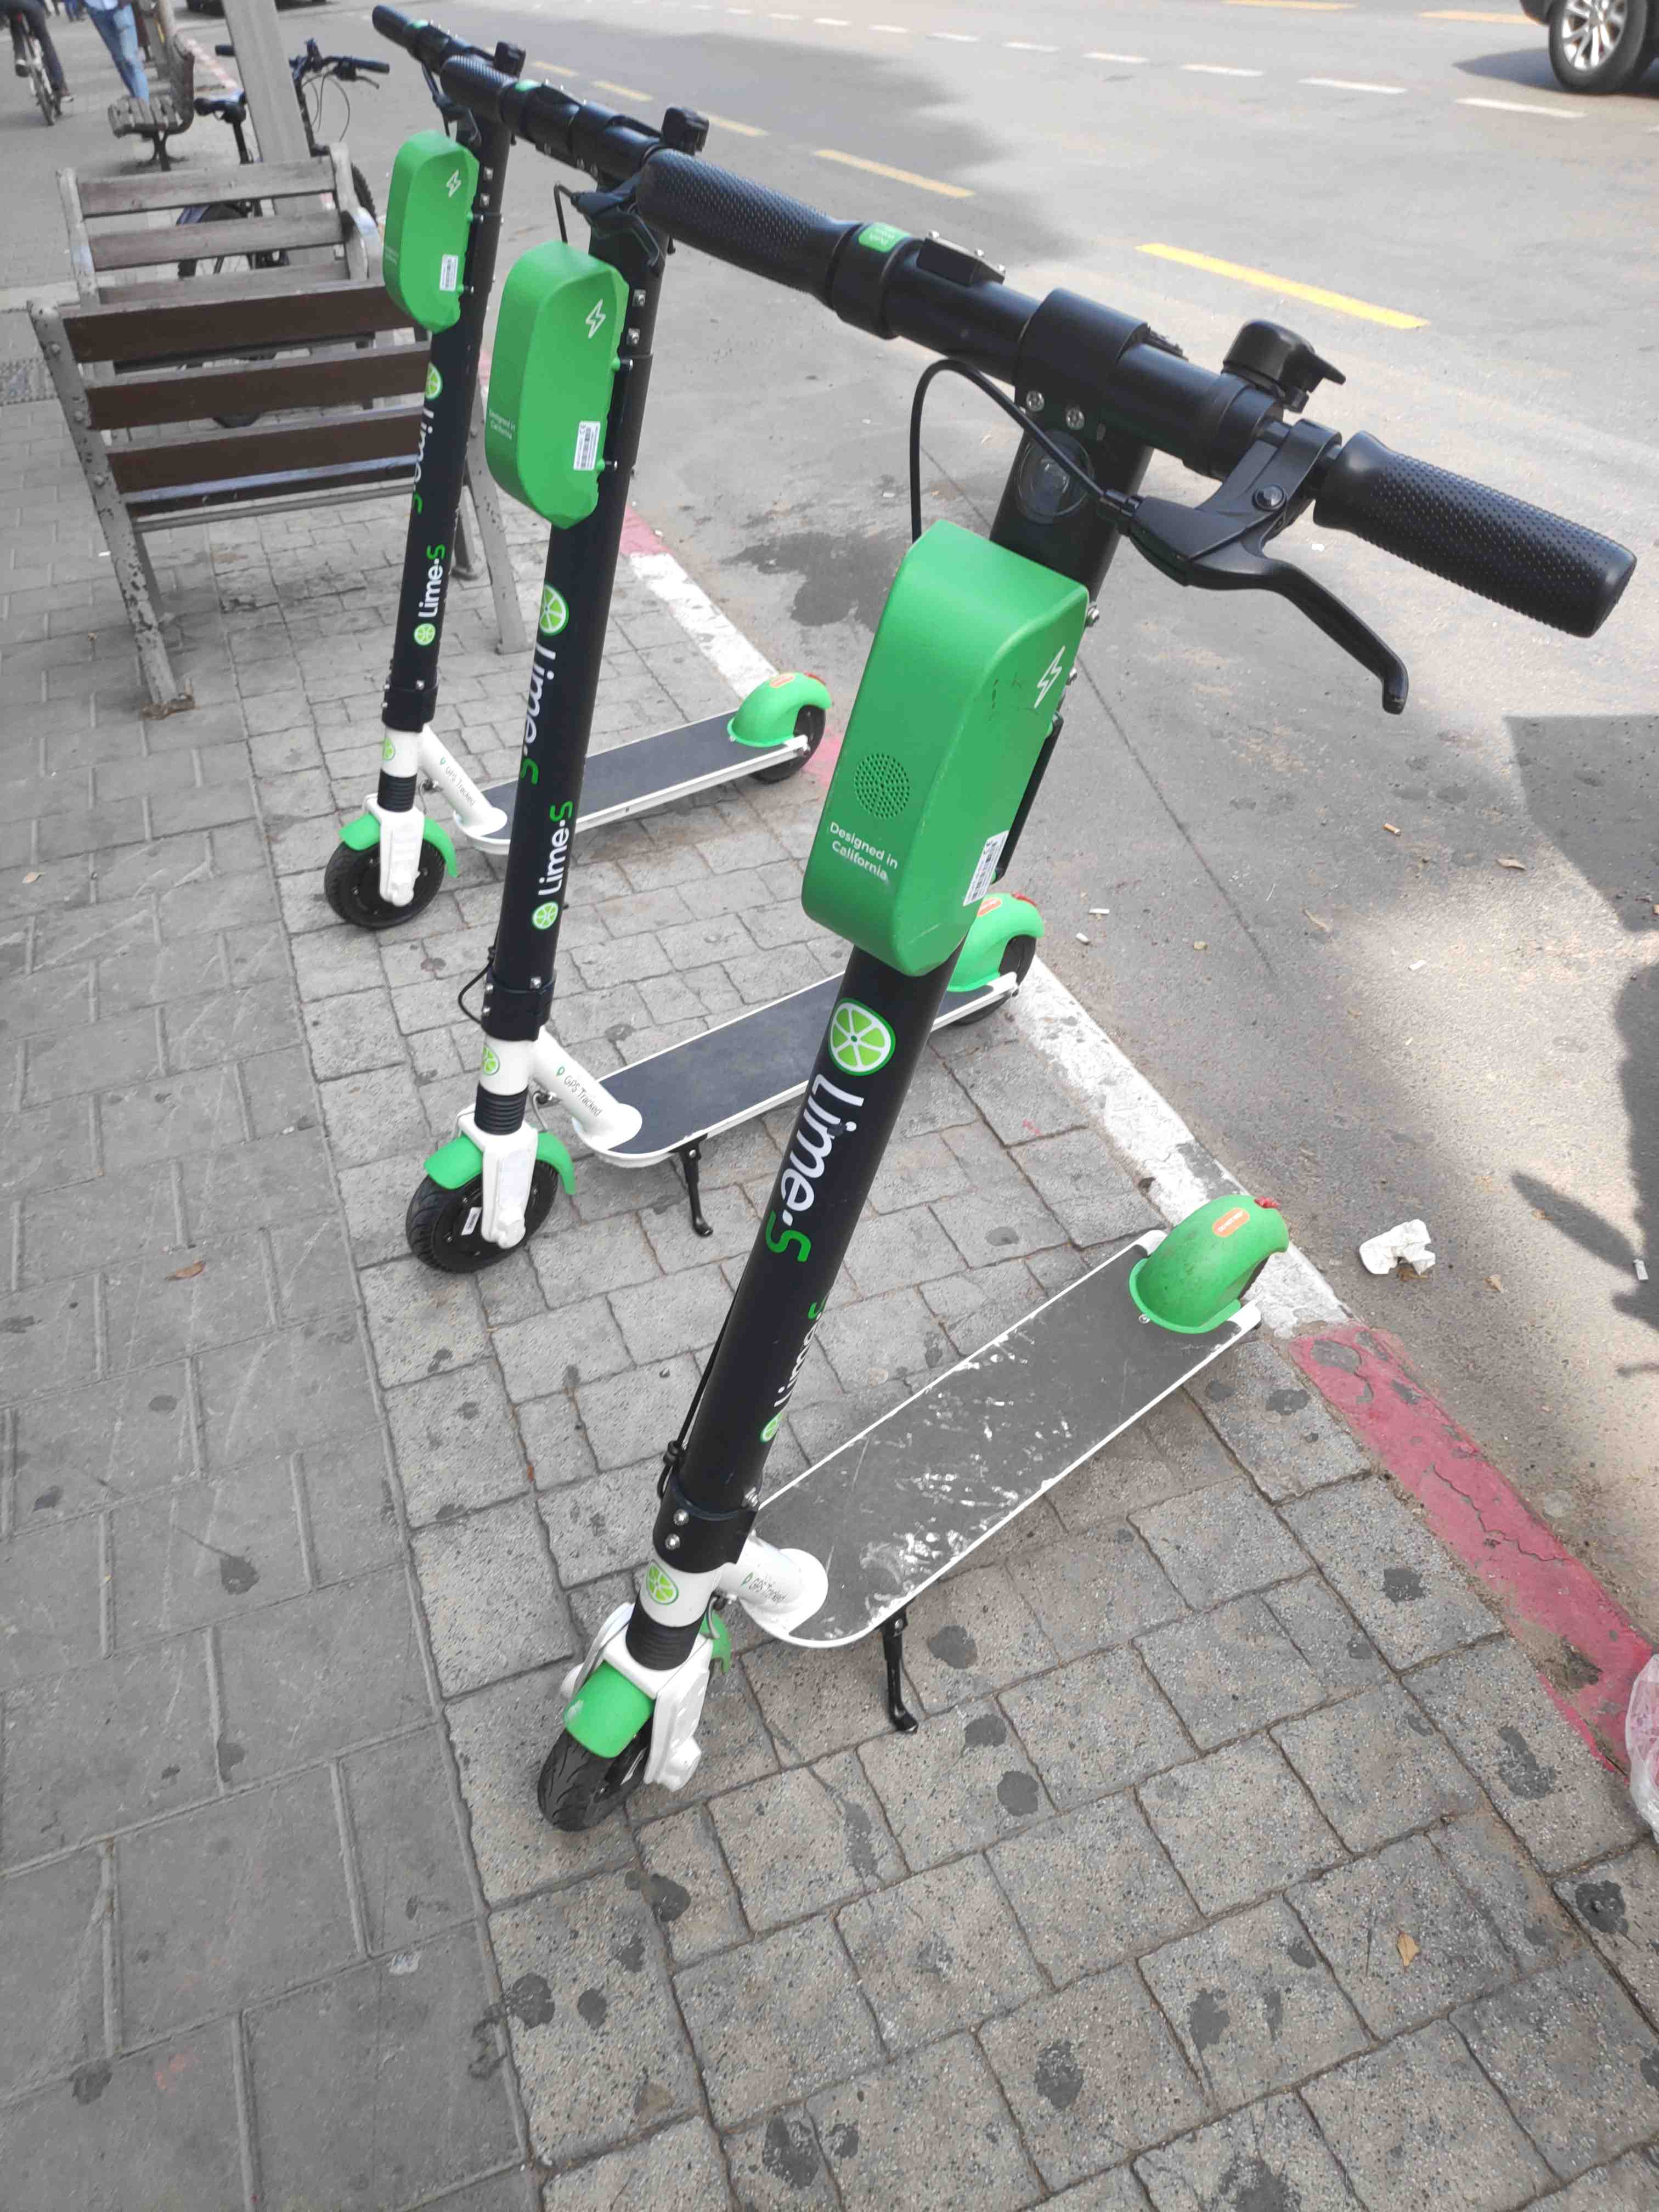too close: (1077, 1101, 1427, 1444), (664, 590, 847, 796)
